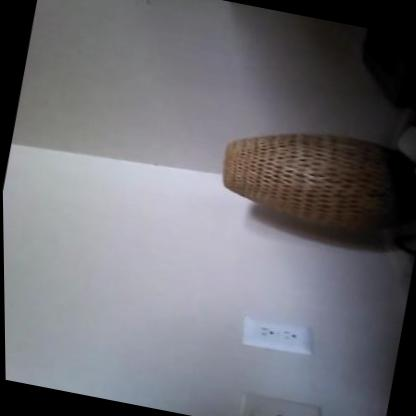OUTLET: (238, 313, 315, 356)
